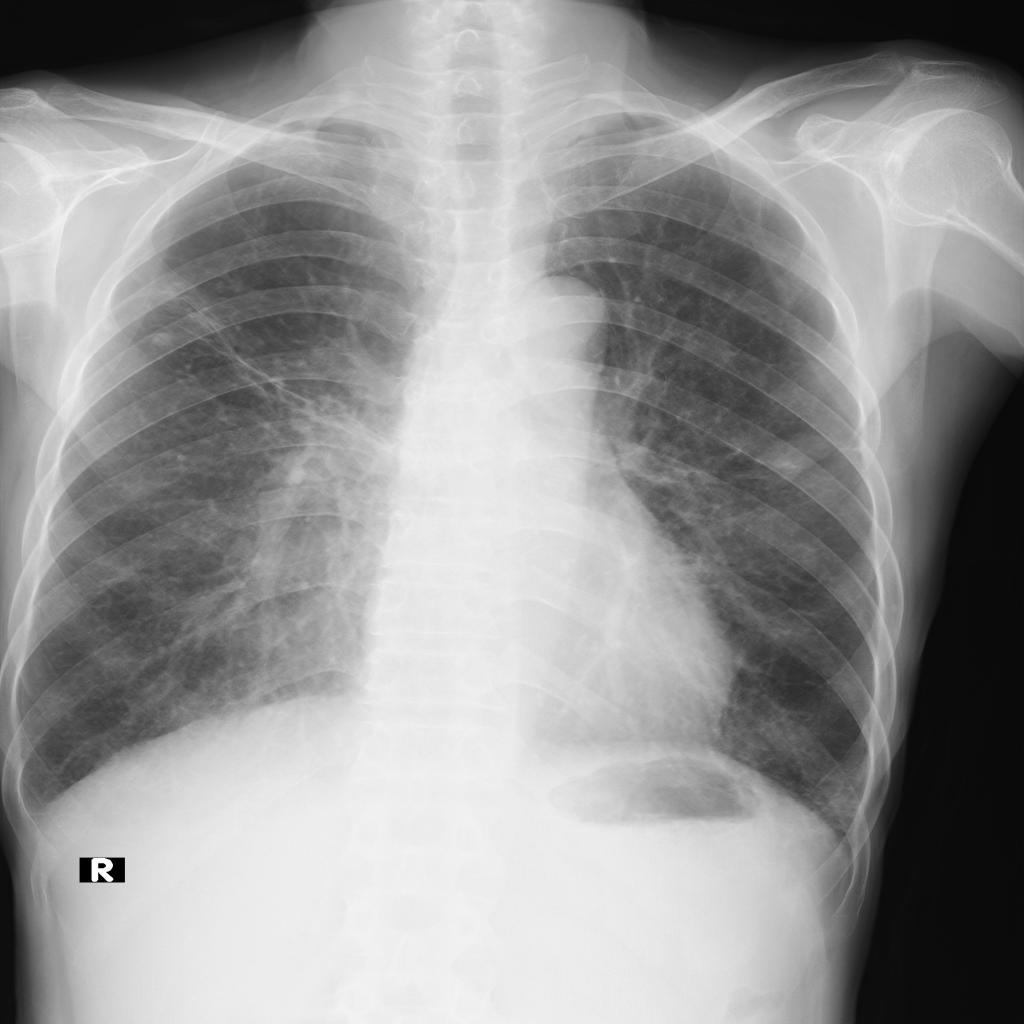Nodule: (154, 332, 178, 351)
